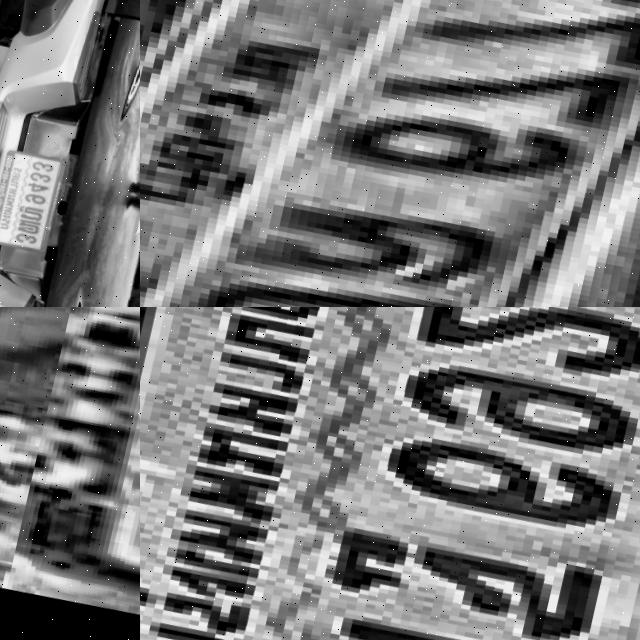license-plate: (140, 307, 640, 640), (140, 0, 640, 307), (14, 307, 140, 640), (0, 145, 68, 257)
